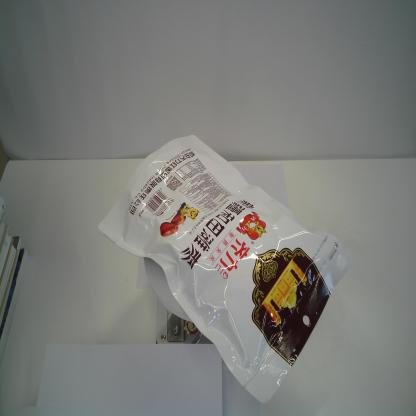Dried Food: (95, 133, 356, 405)
